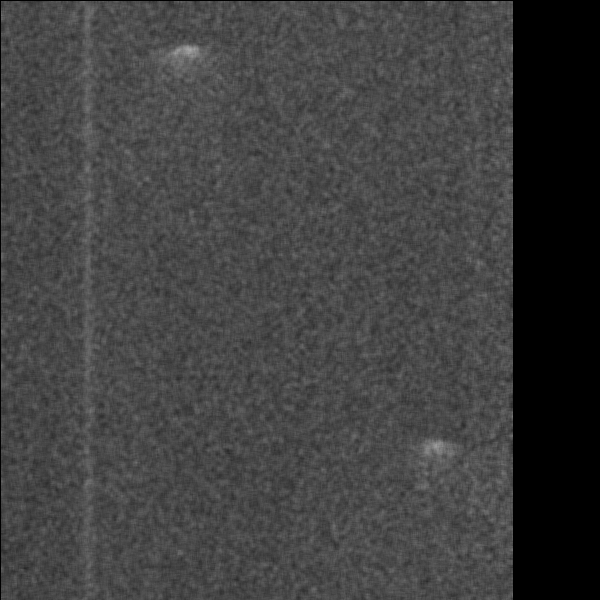spark: (162, 39, 207, 89), (413, 434, 455, 475)
